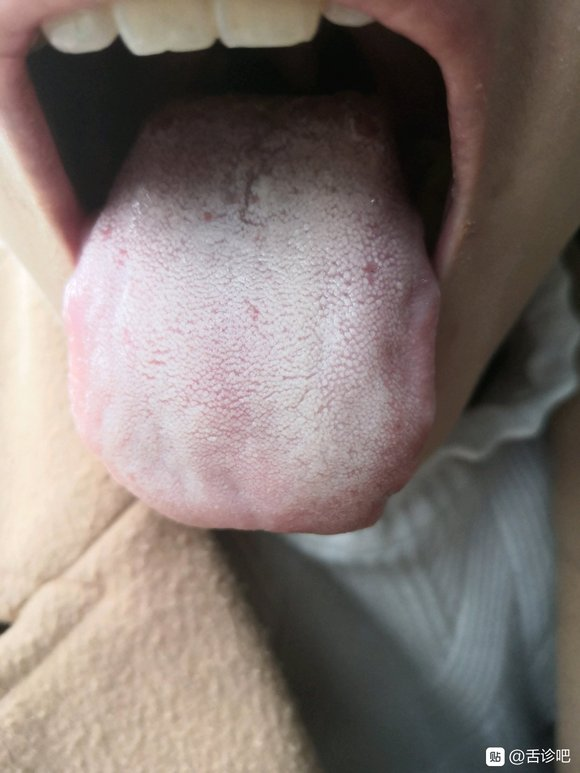baitaishe: (65, 88, 443, 535)
liewenshe: (231, 97, 290, 230)
pangdashe: (65, 88, 443, 535)
